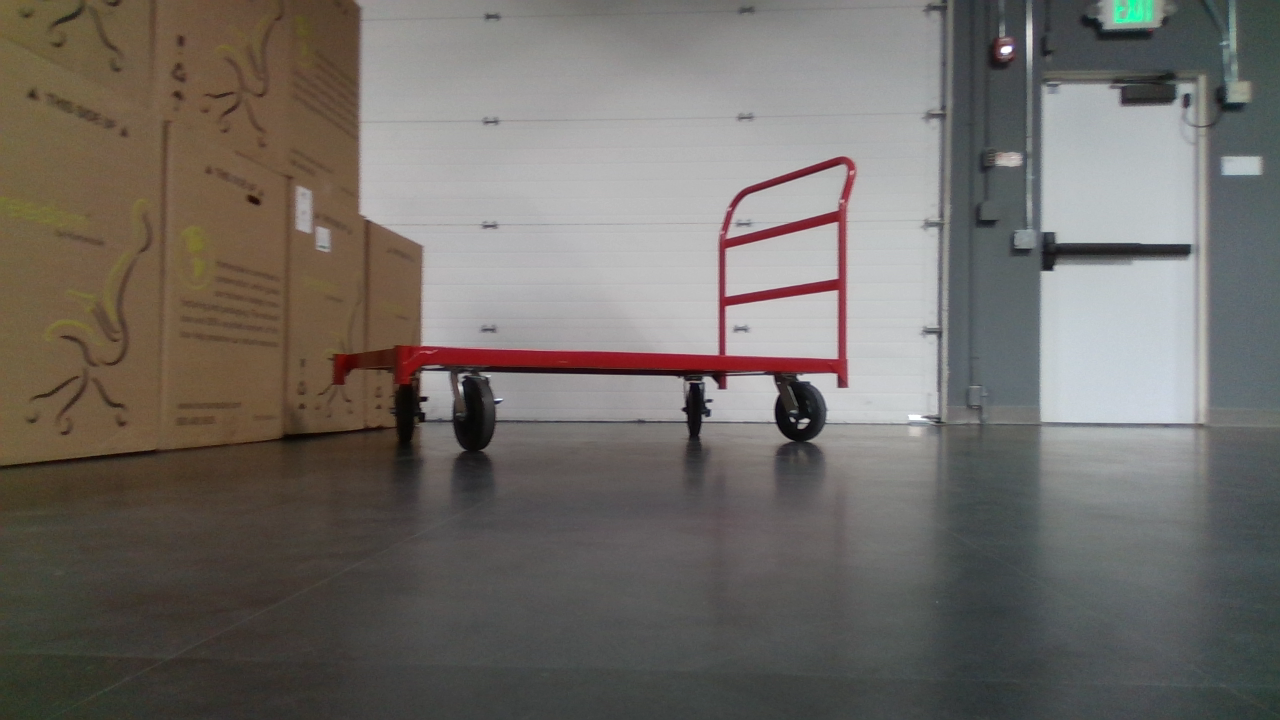Dolly: (335, 152, 857, 453)
Wheel: (450, 374, 503, 452), (772, 380, 827, 443), (394, 378, 423, 443), (679, 382, 710, 440)
